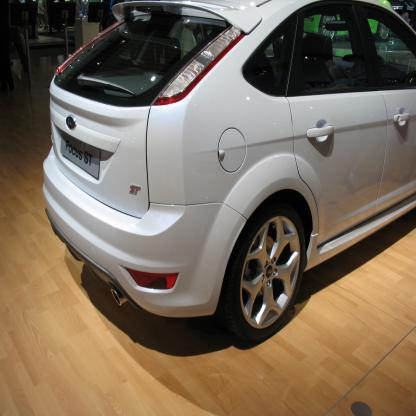Car: (42, 0, 416, 343)
